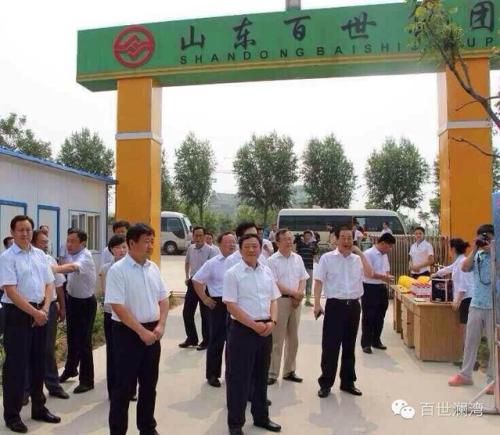boots: (31, 406, 61, 423), (254, 416, 281, 432), (6, 417, 28, 433), (448, 373, 474, 386), (339, 383, 362, 394), (59, 368, 78, 381), (48, 386, 68, 398), (73, 382, 94, 393), (283, 372, 303, 382), (179, 338, 198, 348), (207, 376, 221, 387), (138, 428, 161, 434), (318, 386, 331, 396), (485, 381, 495, 394), (228, 427, 244, 435), (197, 339, 208, 349), (372, 342, 387, 349), (21, 394, 29, 405), (362, 345, 372, 352), (267, 377, 277, 384), (129, 393, 137, 401), (265, 398, 271, 405)
person: (104, 223, 171, 435), (1, 215, 61, 433), (222, 234, 282, 435), (312, 225, 374, 397), (447, 223, 500, 394), (22, 226, 70, 400), (191, 231, 241, 386), (53, 226, 98, 393), (265, 228, 310, 385), (431, 238, 481, 370), (98, 233, 136, 401), (179, 226, 219, 349), (361, 233, 396, 354), (408, 226, 435, 278)
ppe-suit: (102, 253, 170, 435), (1, 242, 60, 427), (221, 258, 282, 432), (312, 249, 365, 392), (264, 249, 309, 380)
